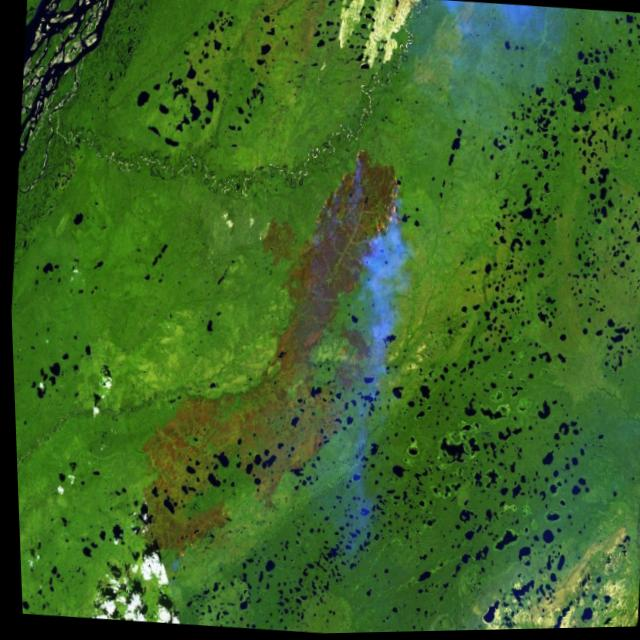fire: (302, 130, 405, 261)
